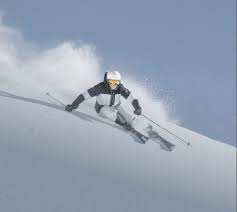skis: (113, 118, 178, 153)
